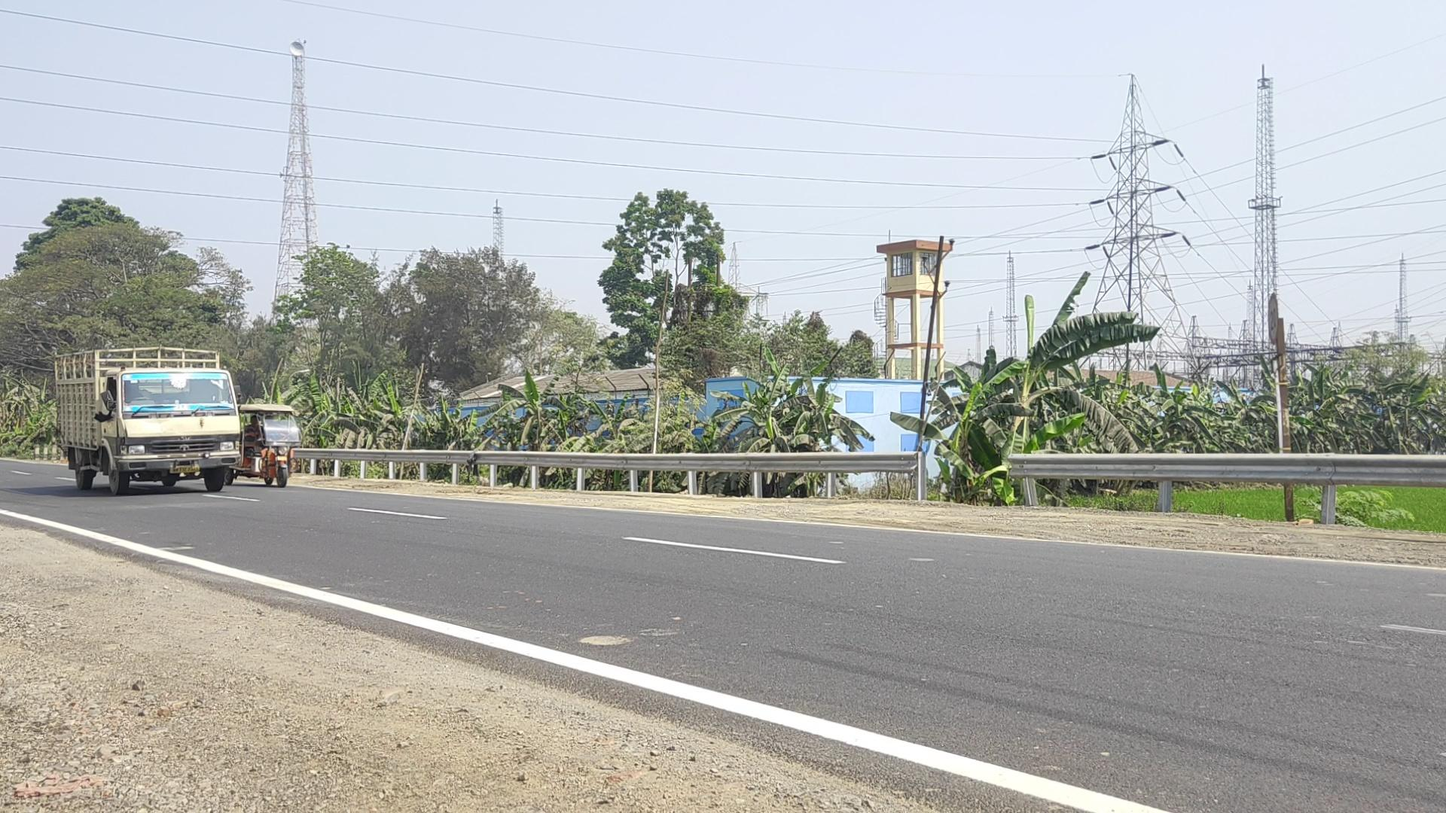Auto: (227, 403, 300, 488)
truck: (52, 346, 241, 495)
